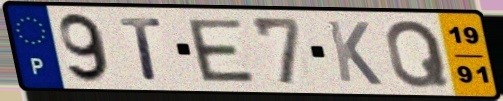7: (248, 16, 307, 87)
9: (56, 11, 114, 84)
E: (183, 17, 258, 84)
K: (323, 18, 385, 87)
Q: (383, 18, 452, 90)
T: (116, 15, 165, 83)
